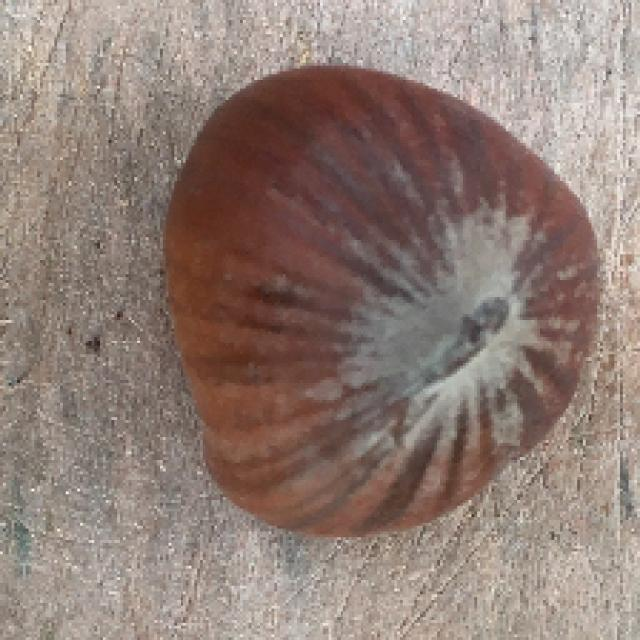damagedHazelnut: (150, 41, 635, 540)
